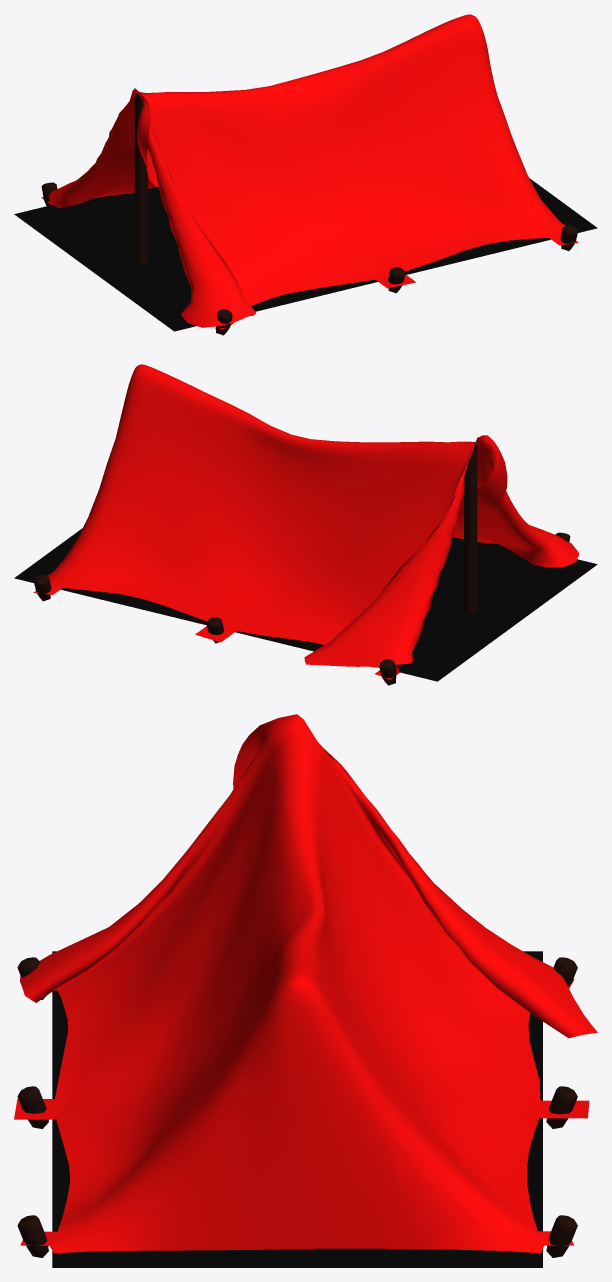
Rendered from carpa.obj.
3 renders of one model, top to bottom at view 1: azimuth 30°, elevation 25°; view 2: azimuth 150°, elevation 25°; view 3: azimuth 270°, elevation 25°, orthographic. The views are drawn at different scales.
Parts seen in each view (by area): view 1: SM_Tente polySurface8, polySurface1 SM_Tente, SM_Tente polySurface9; view 2: SM_Tente polySurface8, polySurface1 SM_Tente, SM_Tente polySurface9; view 3: SM_Tente polySurface8, polySurface1 SM_Tente, SM_Tente polySurface7, SM_Tente polySurface4, SM_Tente polySurface6, SM_Tente polySurface3.
Boxes of the visible parts, x1,y1,x2,y2 form: SM_Tente polySurface8: (41, 14, 578, 329); polySurface1 SM_Tente: (14, 178, 597, 331); SM_Tente polySurface9: (134, 93, 147, 264); SM_Tente polySurface8: (33, 364, 579, 679); polySurface1 SM_Tente: (14, 528, 597, 681); SM_Tente polySurface9: (464, 443, 477, 614); SM_Tente polySurface8: (14, 714, 597, 1253); polySurface1 SM_Tente: (52, 951, 542, 1267); SM_Tente polySurface7: (546, 1215, 577, 1257); SM_Tente polySurface4: (17, 1215, 48, 1257); SM_Tente polySurface6: (546, 1086, 577, 1128); SM_Tente polySurface3: (17, 1086, 48, 1128).
Size of the model in its own units: 280 by 117 by 218.
